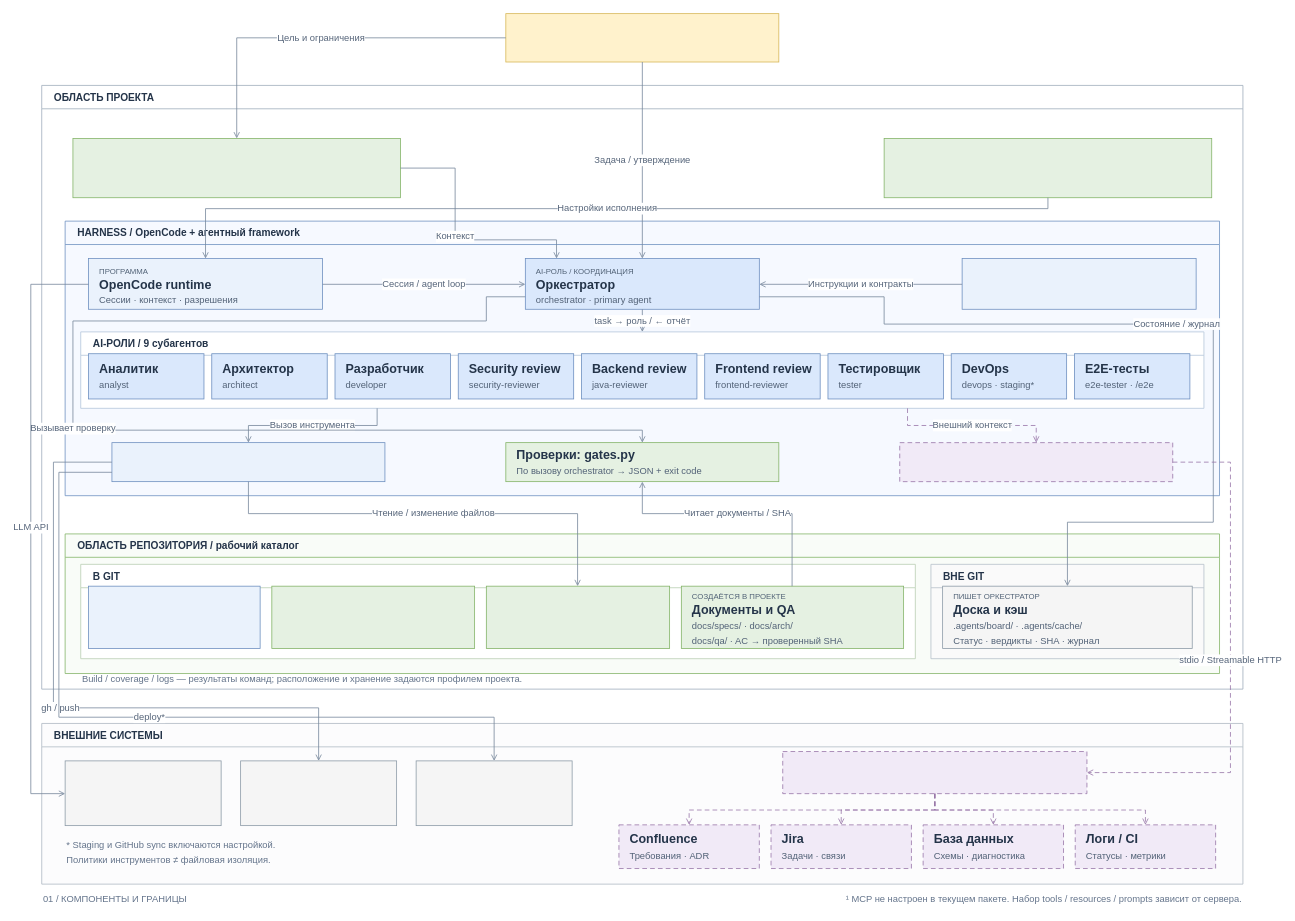
The diagram is 1295 pixels wide and 921 high, and some of its shapes have lost their labels. Here are the shapes that lost their labels. From the top down, the centre of each, then its label:
point (642, 37): ЧЕЛОВЕК Команда / владелец решения
point (236, 168): ПРОЕКТНОЕ Контекст проекта Домен · цели · ограничения · архитектура
point (1047, 168): ПРОЕКТНОЕ Конфигурация проекта Стек · команды · пороги · модели · подключения
point (1078, 283): ПАКЕТ .opencode/ Агентный framework Роли · skills · команды · правила
point (248, 462): Локальные инструменты read / edit / bash / git
point (1036, 462): MCP-клиенты tools · resources · prompts¹
point (174, 617): ПОСТАВЛЯЕТСЯ Файлы framework .opencode/ agents · skills · lib
point (373, 617): ПРОЕКТНОЕ Настройки проекта AGENTS.md · opencode.json .agents/profile.md
point (578, 617): СОЗДАЁТСЯ В ПРОЕКТЕ Код и тесты src/ · tests/ story/* → feature/*
point (934, 772): MCP-серверы / адаптеры Каталог возможностей · доступ к API
point (142, 793): ВЫЧИСЛЕНИЕ LLM / провайдер Модель для роли API → tool requests
point (318, 793): ИНТЕГРАЦИЯ GitHub gh CLI → draft PR Issues / Projects*
point (493, 793): ОКРУЖЕНИЕ Staging* Команды профиля G7–G8 · digest / health
